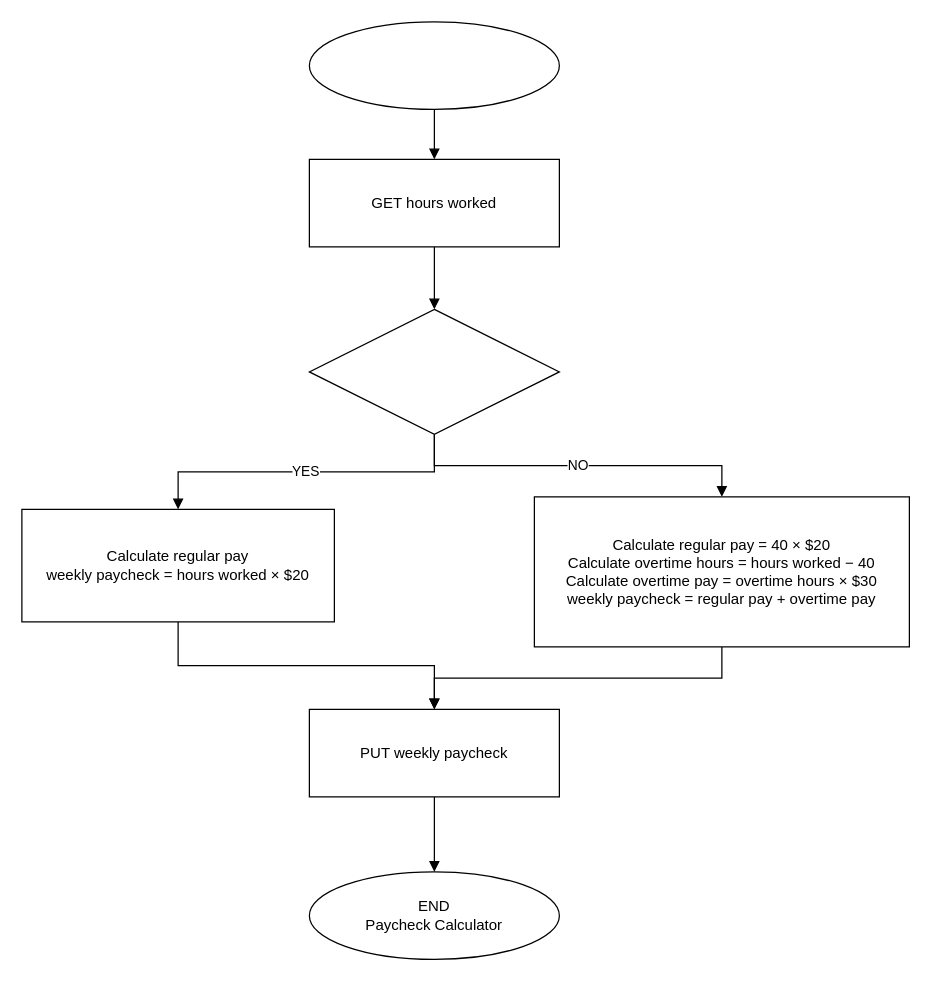
Image size: 931x981. Some labels were removed from this diagram. Here are the shapes that lost their labels. From the top down, the centre of each, then its label:
At [433,65]: "START Paycheck Calculator".
At [433,371]: "Hours worked <= 40?".
